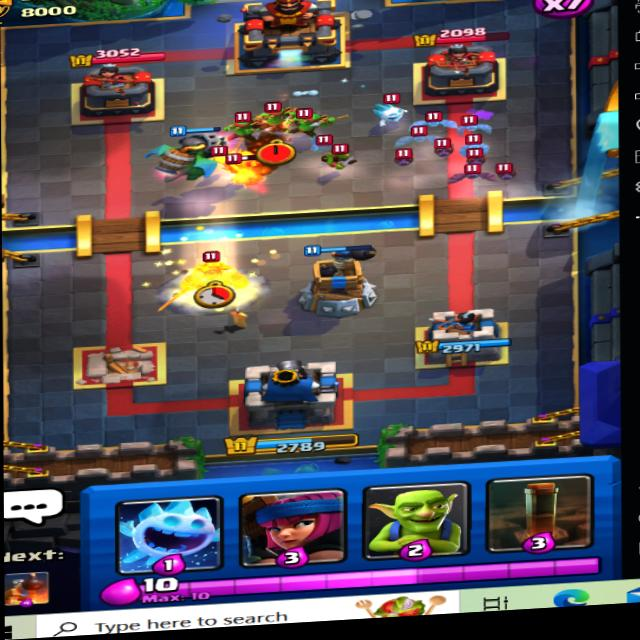bats: (452, 160, 491, 182), (463, 143, 493, 171), (489, 163, 523, 186)
goblin: (318, 138, 358, 177)
golden-knight: (163, 247, 250, 312)
ice-spirit: (375, 92, 417, 130)
spear-goblin: (295, 103, 345, 140), (217, 102, 256, 146), (254, 98, 294, 133)
